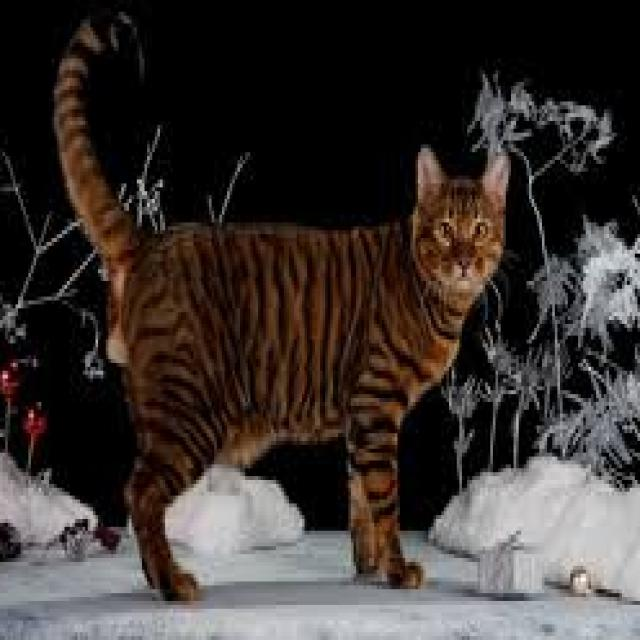Toyger: (49, 0, 511, 609)
